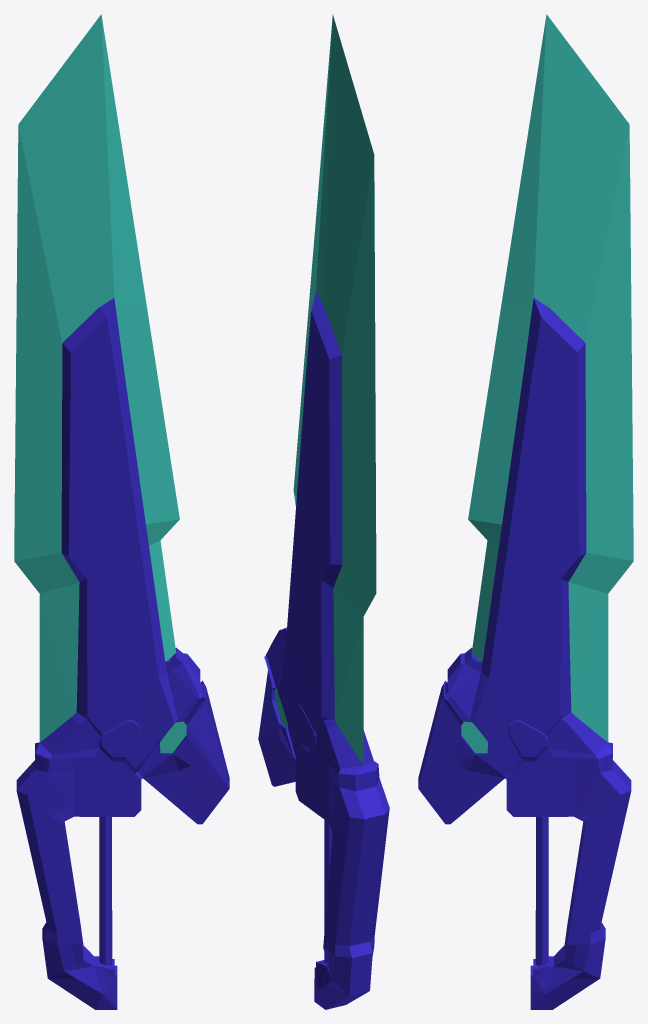
The model's file is psosword.fbx.
3 views of the same model, side by side, from view 1: azimuth 90°, elevation 25°; view 2: azimuth 210°, elevation 25°; view 3: azimuth 270°, elevation 25° (orthographic).
Visible parts, largest first — view 1: Cube; view 2: Cube; view 3: Cube.
Part boxes in pixels (<box>): Cube: <box>14,14,229,1009</box>; Cube: <box>258,14,389,1009</box>; Cube: <box>418,14,633,1009</box>.
Bounding box in the file's own units: 0.3348 × 7.95 × 1.57.
